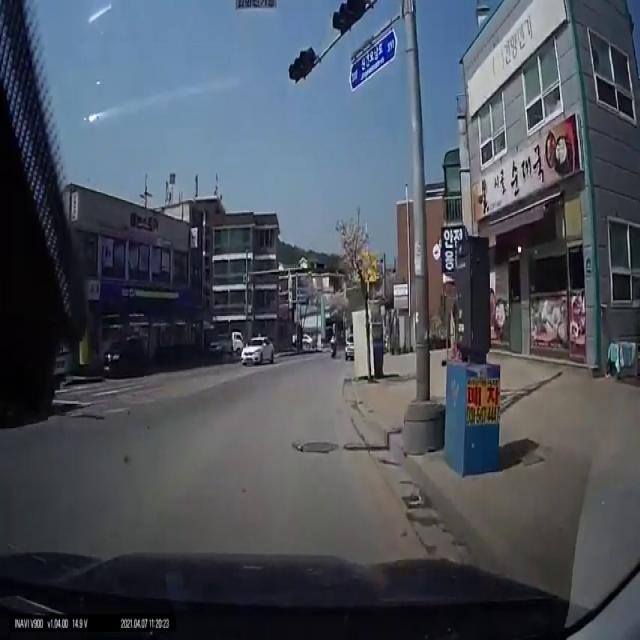Pothole: (298, 438, 340, 458)
